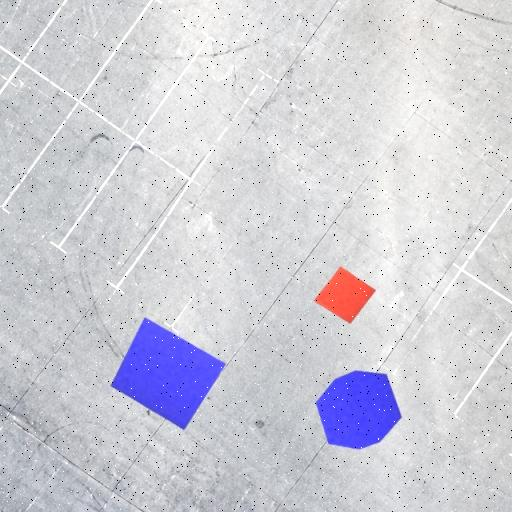BLUE_SQUARE: (110, 317, 226, 430)
RED_SQUARE: (313, 266, 377, 324)
